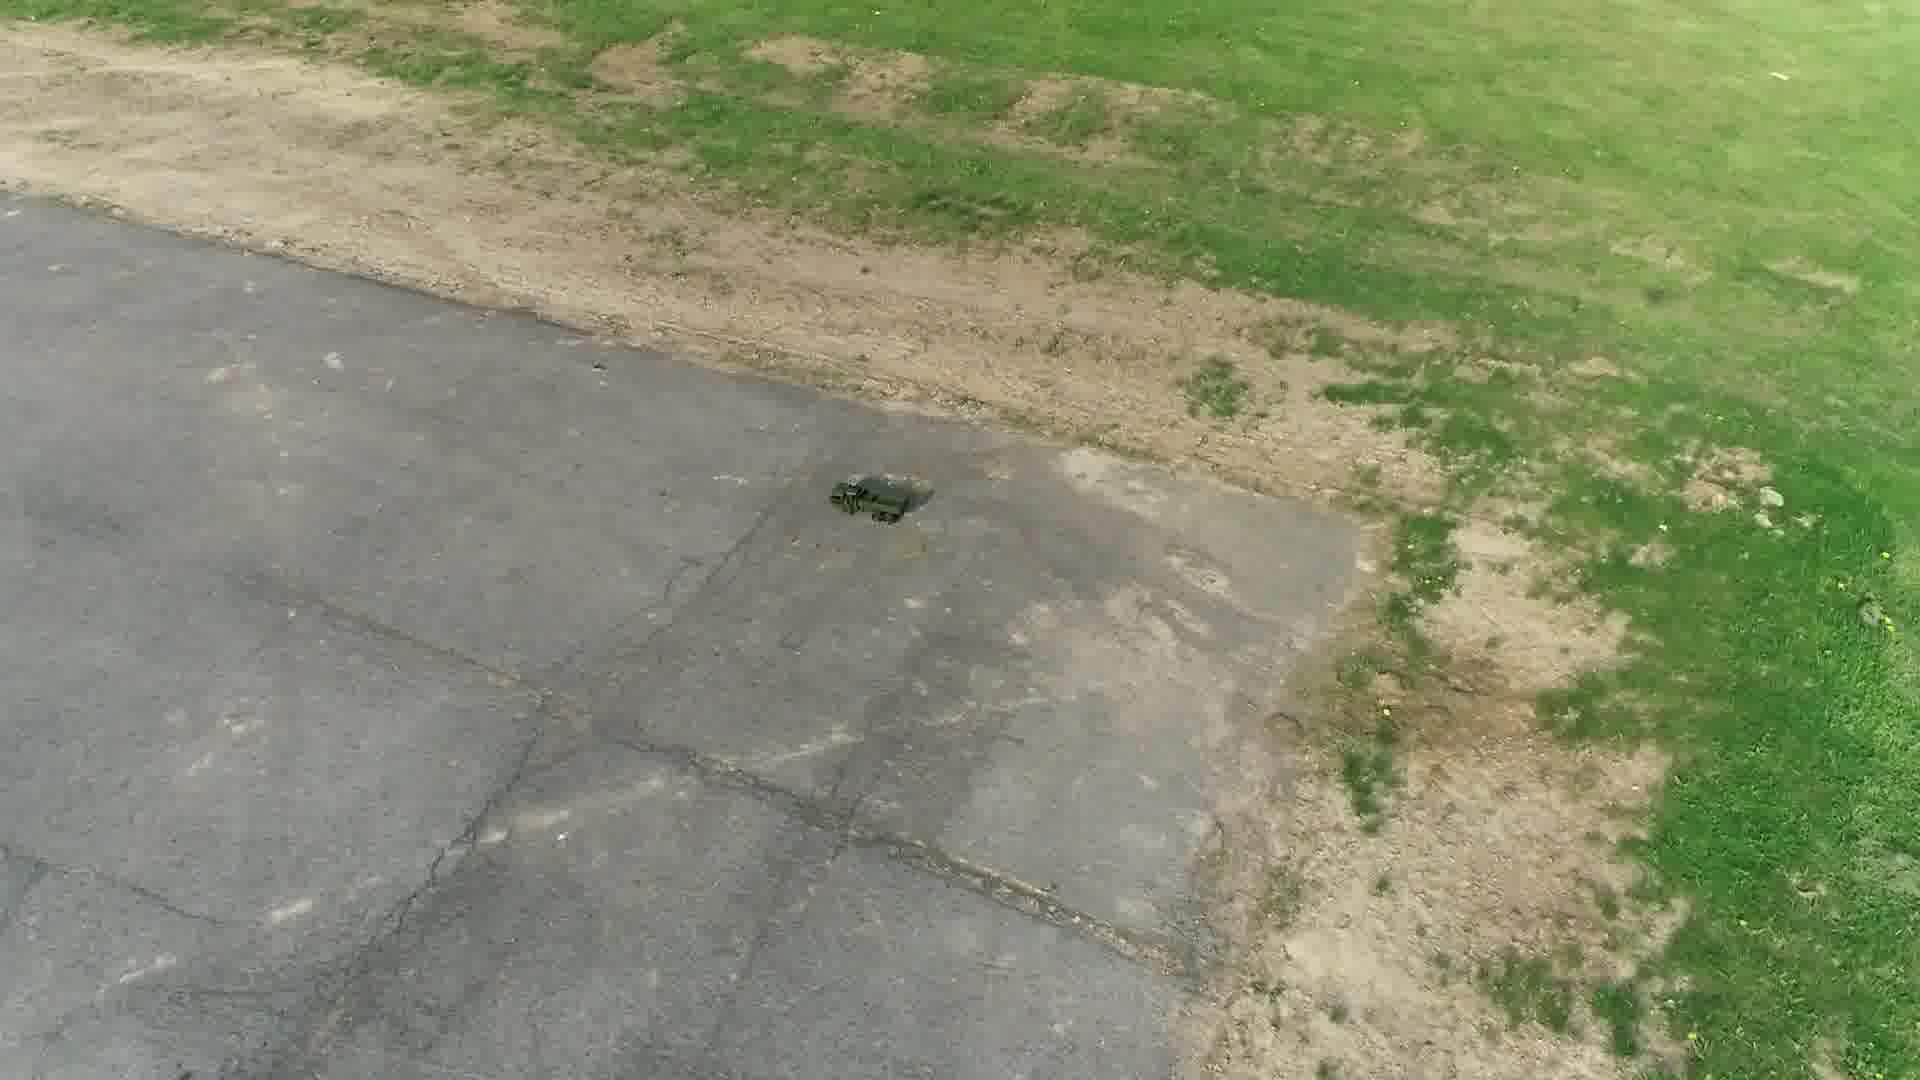transporter9: (828, 480, 910, 526)
